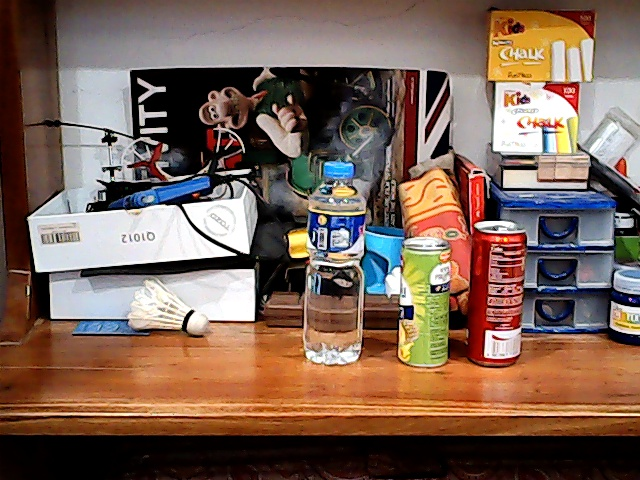Cola: (463, 218, 529, 364)
Pine Juice: (395, 228, 456, 375)
Summit Water: (292, 154, 373, 358)
